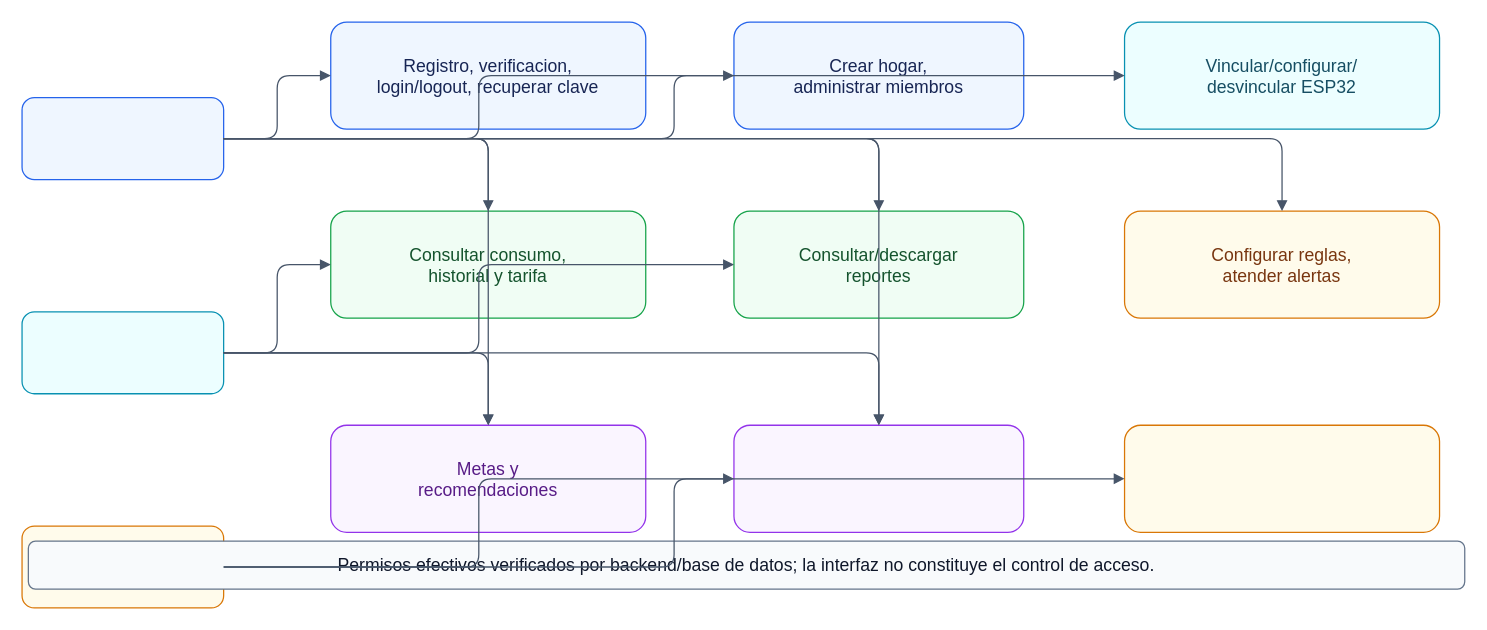
Image size: 1487x630. Some labels were removed from this diagram. The shapes that lost their labels are listed below. From the top down, each one's box as (x1, y1, x2, y2) in pixels, then its label:
(21, 96, 224, 180): Titular / Owner
(21, 311, 224, 394): Invitado / Guest
(733, 424, 1024, 532): Solicitar soporte
(1123, 424, 1440, 532): Usuarios, auditoria, soporte global
